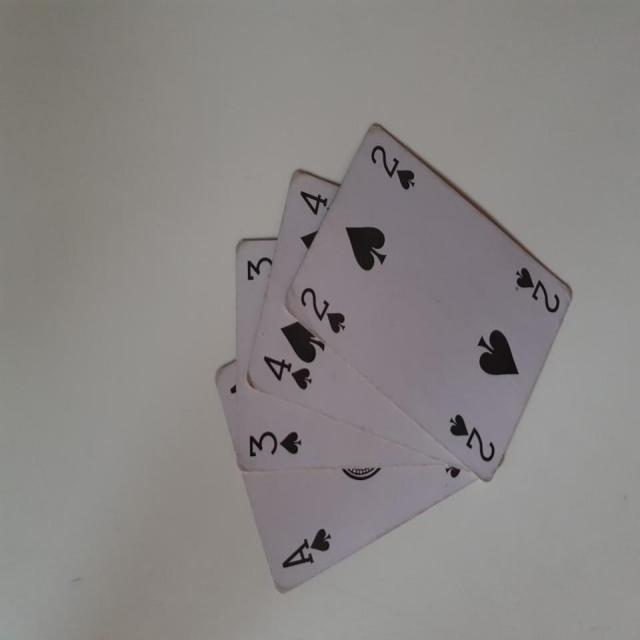2 Spades: (66, 155, 353, 522)
3 Spades: (154, 170, 425, 405)
4 Spades: (164, 176, 393, 473)
A Spades: (158, 46, 426, 277)
